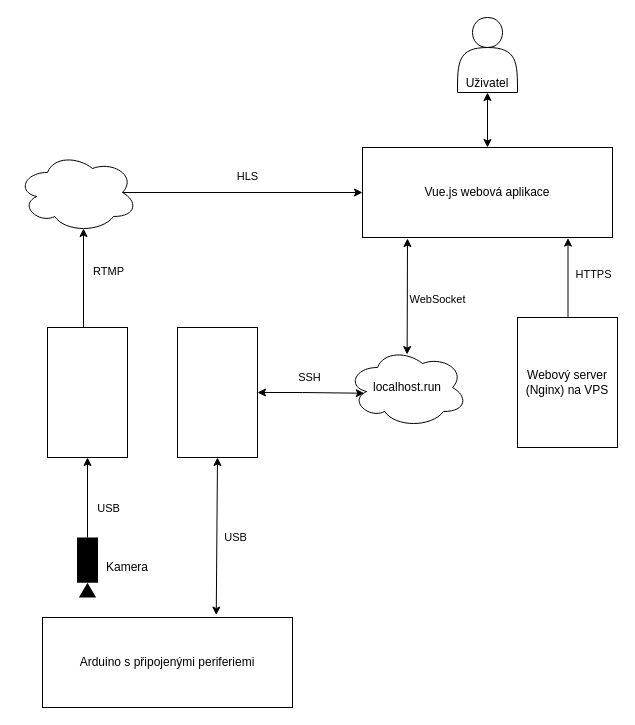
This 635x725 diagram has some shape labels left out. The box of each missing label's shape, as (x1, y1, x2, y2) in pixels:
Node.js backend na Raspberry PI bez veřejné IP: (176, 326, 258, 458)
OBS na počítači s architekturou x86_64: (46, 326, 128, 458)
Twitch.tv: (16, 152, 138, 232)
